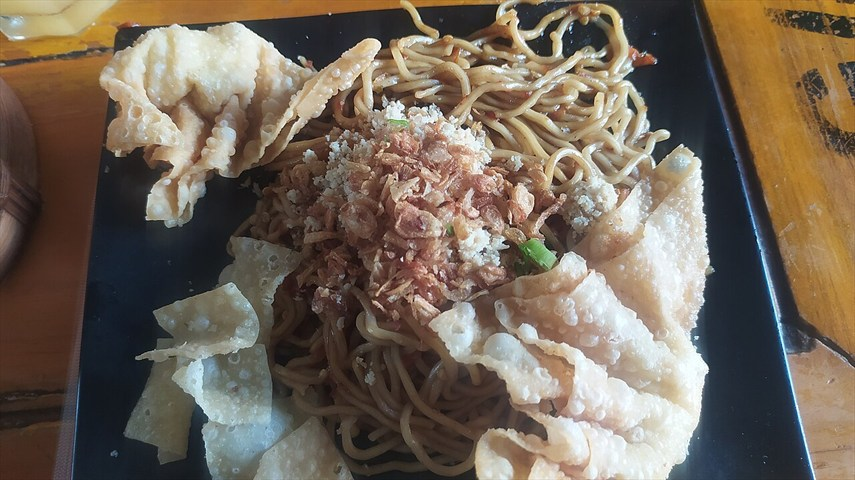Mie Goreng: (141, 19, 730, 437)
